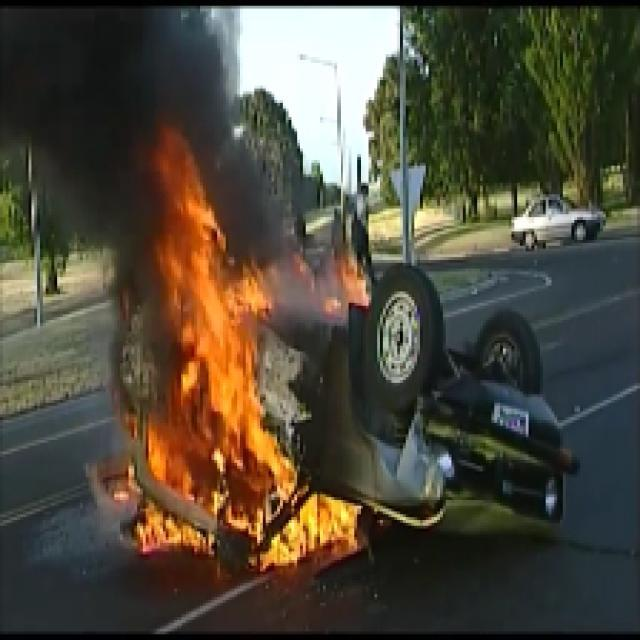Fire: (159, 154, 238, 546), (248, 395, 351, 556)
Smoke: (9, 5, 237, 156)
